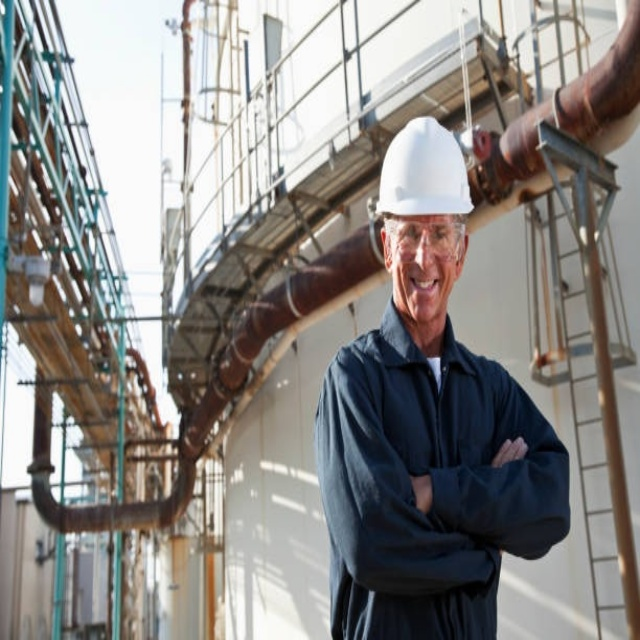Gafas: (384, 216, 466, 260)
Sin_mascara: (405, 268, 444, 311)
